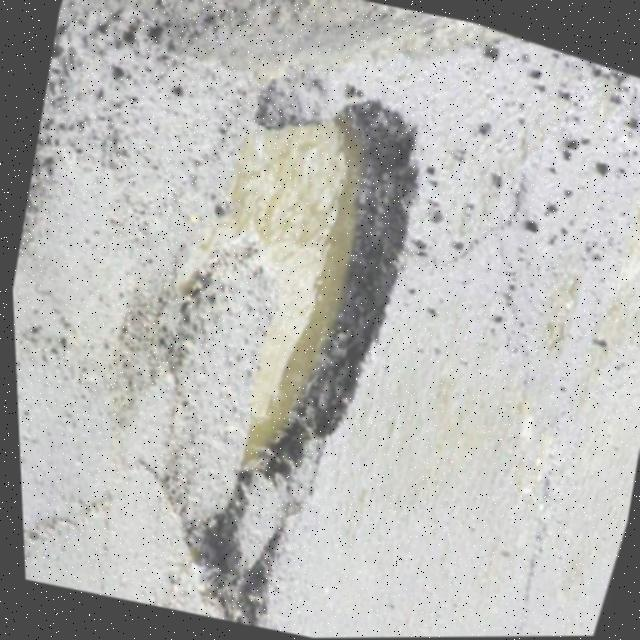Pothole: (56, 27, 480, 640)
